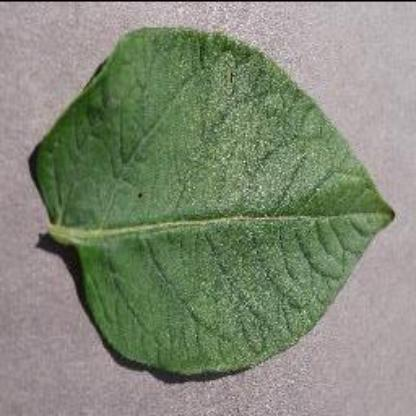Healthy-plant: (34, 19, 396, 384)
